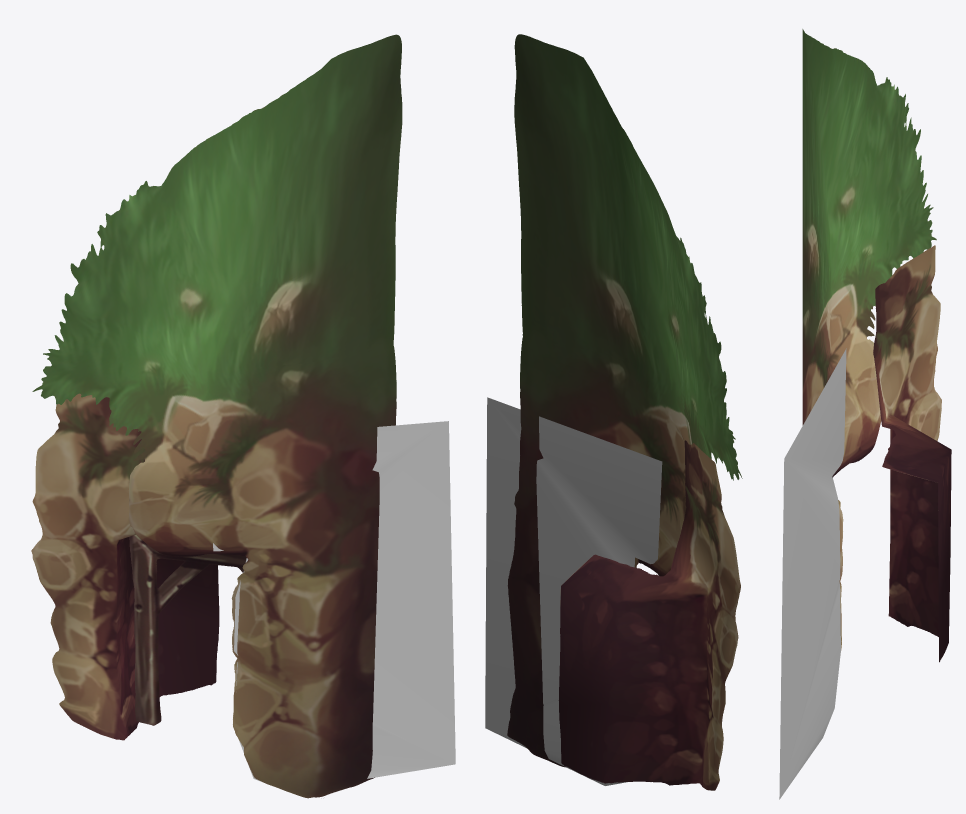
The model's file is Mine Entrance.FBX.
3 views of the same model, side by side, from view 1: azimuth 30°, elevation 25°; view 2: azimuth 150°, elevation 25°; view 3: azimuth 270°, elevation 25° (orthographic). The views are drawn at different scales.
Visible parts, largest first — view 1: Mine Entrance, Mine Entrance Mask; view 2: Mine Entrance, Mine Entrance Mask; view 3: Mine Entrance, Mine Entrance Mask.
Part boxes in pixels (box(x1,y1,x2,y2)): Mine Entrance: box(31, 34, 402, 798); Mine Entrance Mask: box(213, 421, 455, 781); Mine Entrance: box(507, 34, 742, 790); Mine Entrance Mask: box(485, 397, 662, 785); Mine Entrance: box(802, 29, 951, 662); Mine Entrance Mask: box(779, 348, 846, 799).
Size of the model in its own units: 1052 by 445 by 2136.
